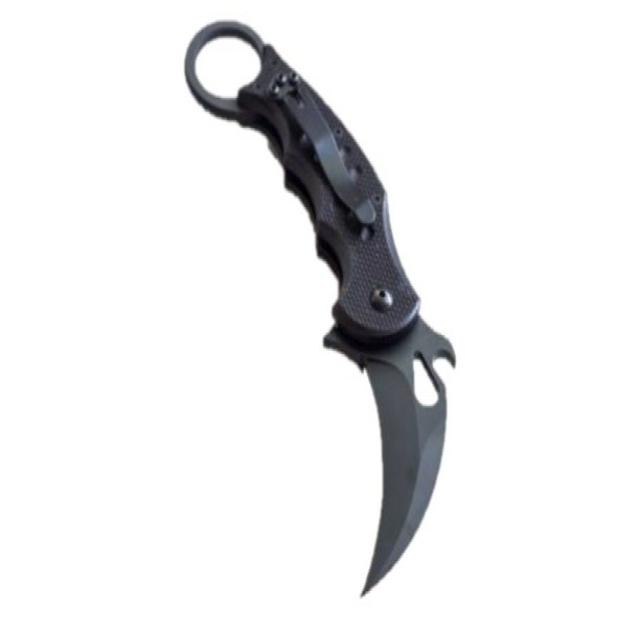knife: (181, 13, 473, 616)
